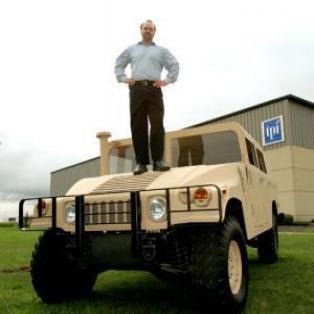Auto: (14, 125, 282, 308)
